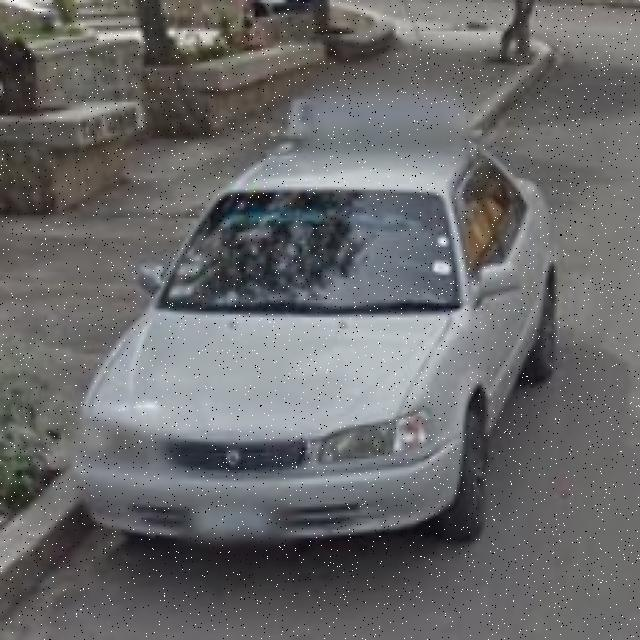cars: (80, 117, 562, 586)
